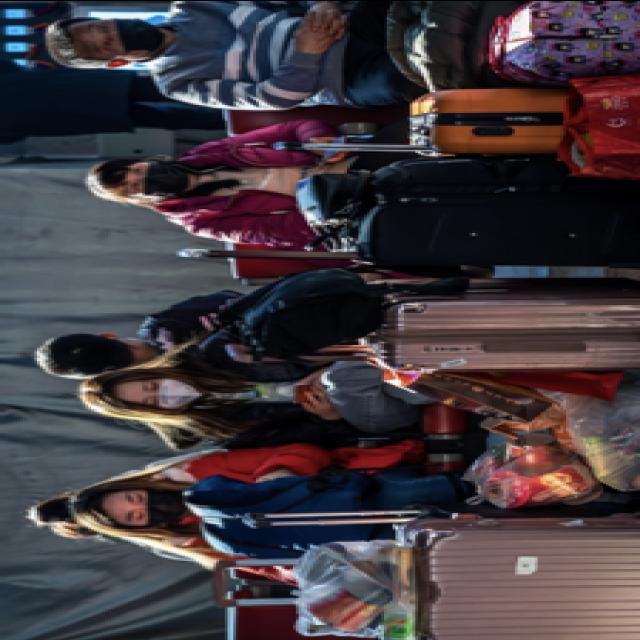mask: (77, 16, 159, 58), (116, 158, 188, 196), (117, 485, 179, 525), (134, 376, 196, 406)
